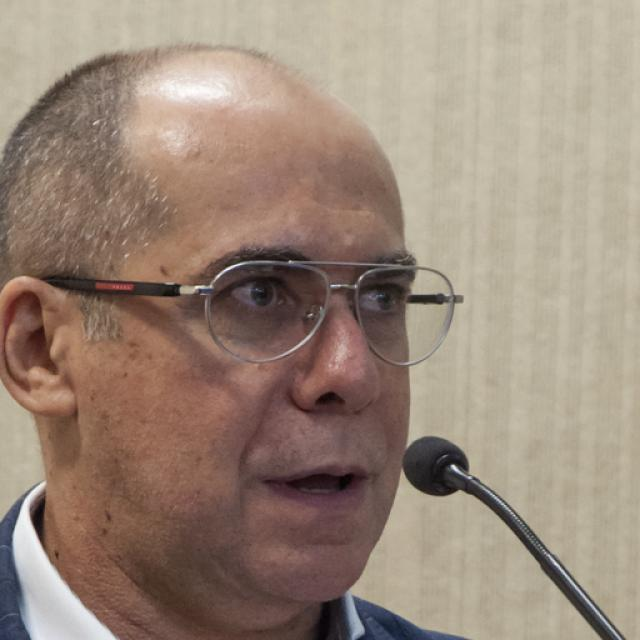0_rostro_limpio: (0, 49, 412, 596)
